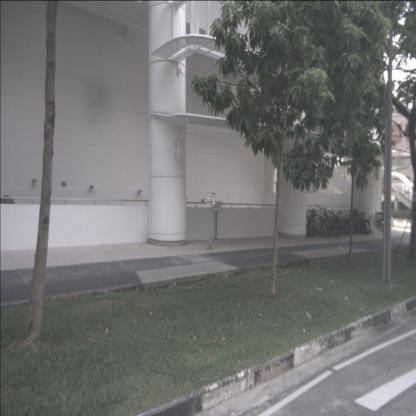vehicle-bicycle: (368, 212, 380, 235)
